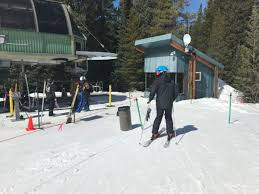skier: (133, 60, 192, 152)
